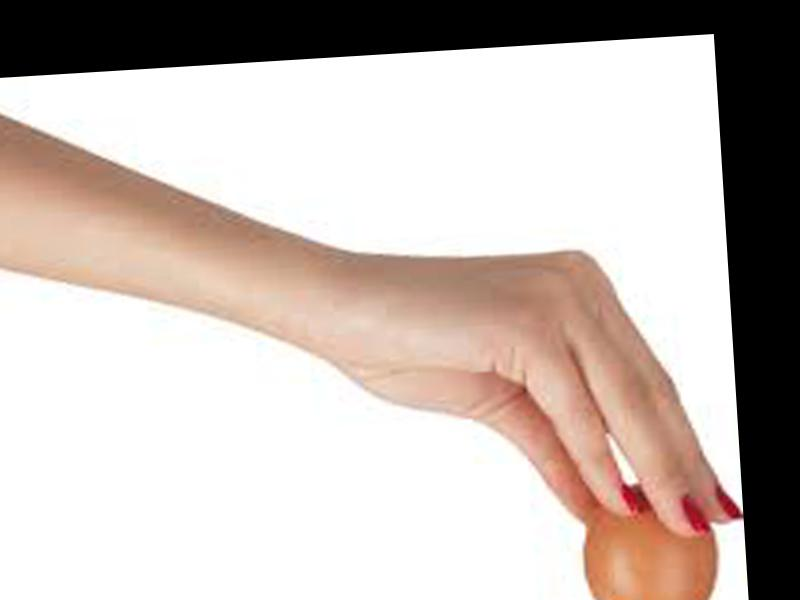Eggs: (579, 484, 723, 600)
